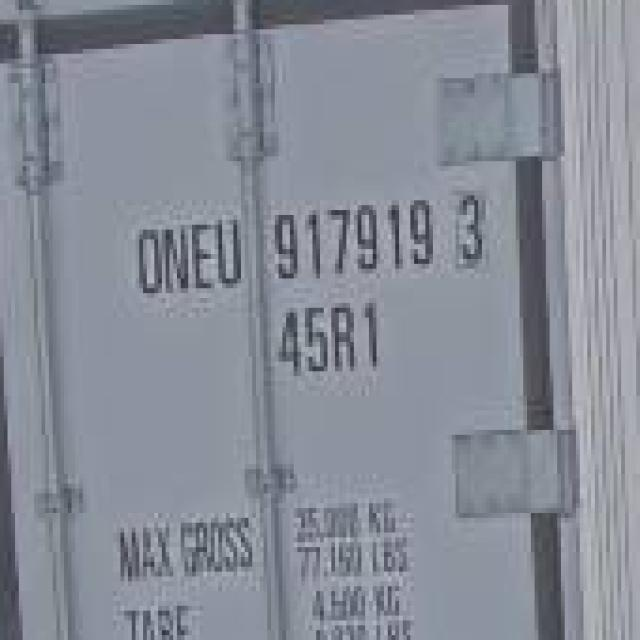dv: (442, 179, 496, 276)
owner: (125, 209, 246, 301)
serial: (270, 192, 439, 288)
size: (271, 296, 389, 386)
